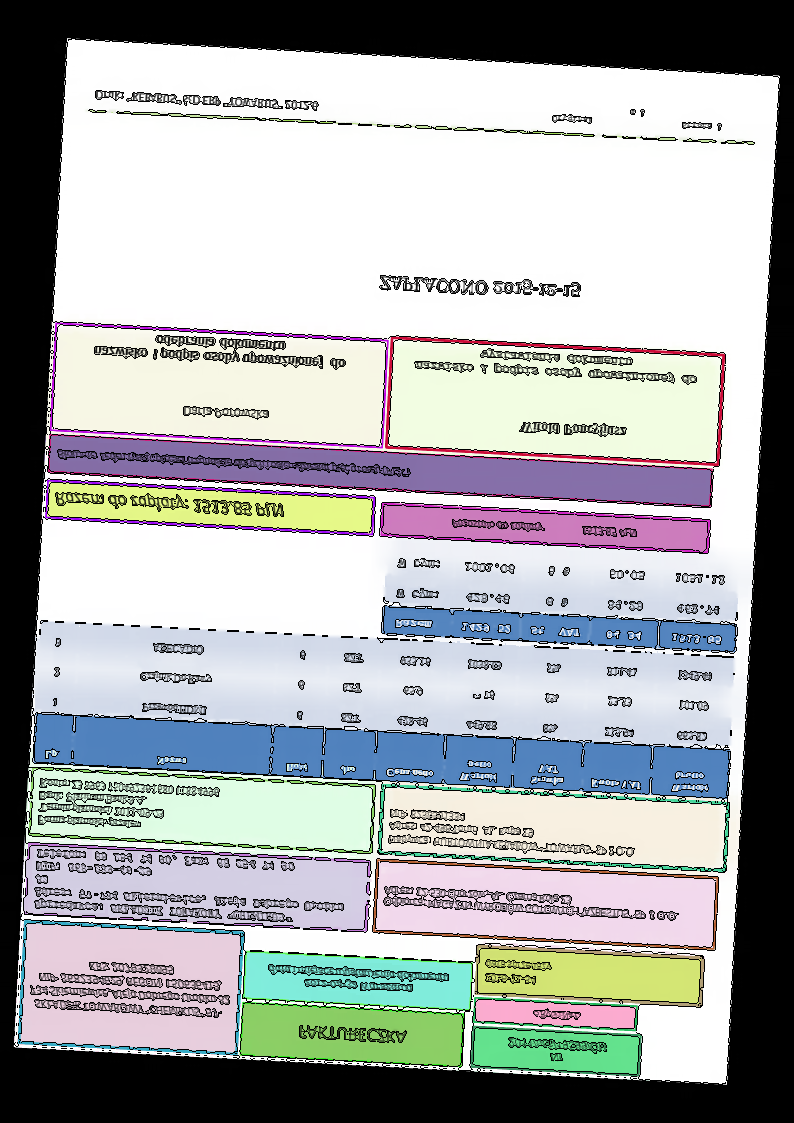Table: (31, 619, 736, 801), (379, 543, 742, 654)
TextBox: (31, 847, 349, 930), (26, 955, 233, 1023), (53, 444, 411, 483), (386, 808, 638, 859), (411, 344, 698, 387), (382, 883, 681, 924), (33, 776, 222, 838), (90, 329, 349, 371), (51, 490, 286, 524), (91, 86, 323, 117), (375, 269, 583, 303), (265, 962, 453, 997), (550, 103, 727, 133), (447, 517, 639, 541), (503, 1034, 609, 1069), (294, 1021, 410, 1047), (516, 418, 630, 442), (179, 403, 273, 427), (482, 957, 553, 988), (530, 1008, 583, 1024)
